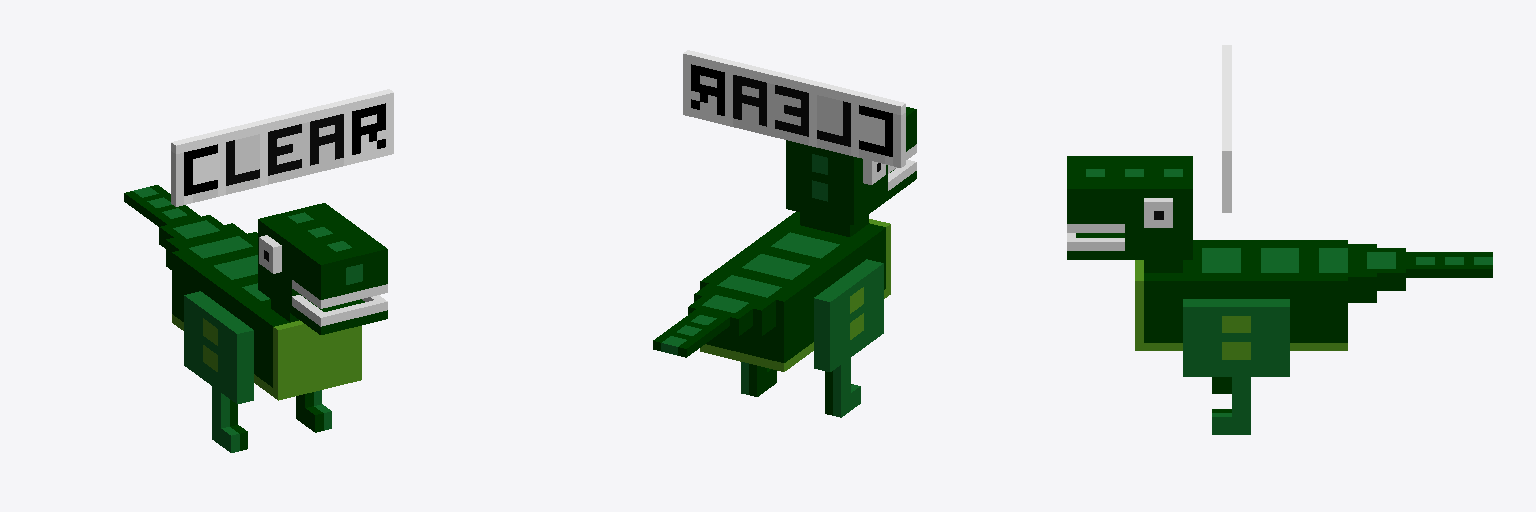
The picture shows the model from 3 angles: view 1: azimuth 30°, elevation 25°; view 2: azimuth 150°, elevation 25°; view 3: azimuth 270°, elevation 25°; orthographic projection.
Parts seen in each view (by area): view 1: Matrix_20; view 2: Matrix_20; view 3: Matrix_20.
Part boxes in pixels (x1,y1,x2,y2): Matrix_20: (124, 89, 393, 452); Matrix_20: (653, 50, 916, 417); Matrix_20: (1067, 45, 1492, 434).
Size of the model in its own units: 26 by 36 by 44.
1 materials, 1 textured.